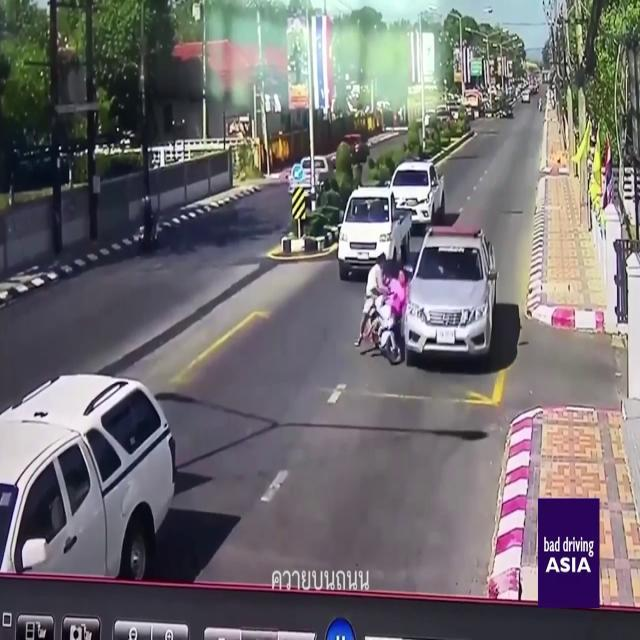multiple_accident: (356, 227, 504, 354)
normal: (1, 350, 234, 593), (334, 123, 456, 271)
